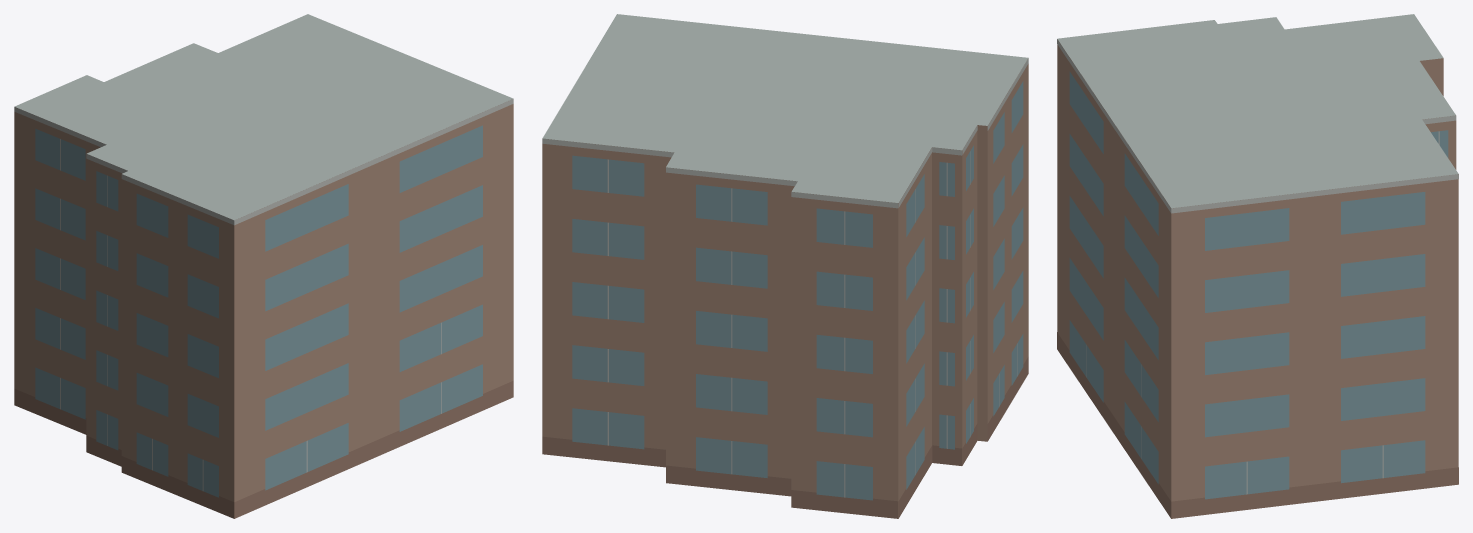
File: survey-upis-32911088.glb
The picture shows the model from 3 angles, left to right: view 1: azimuth 30°, elevation 25°; view 2: azimuth 150°, elevation 25°; view 3: azimuth 270°, elevation 25°; orthographic projection. The views are drawn at different scales.
Parts seen in each view (by area): view 1: survey-upis-32911088.tmp; view 2: survey-upis-32911088.tmp; view 3: survey-upis-32911088.tmp.
Part boxes in pixels (x1=…): survey-upis-32911088.tmp: x1=14, y1=14, x2=513, y2=518; survey-upis-32911088.tmp: x1=542, y1=14, x2=1028, y2=518; survey-upis-32911088.tmp: x1=1057, y1=14, x2=1458, y2=518.
Size of the model in its own units: 19.6 by 14.6 by 17.12.
